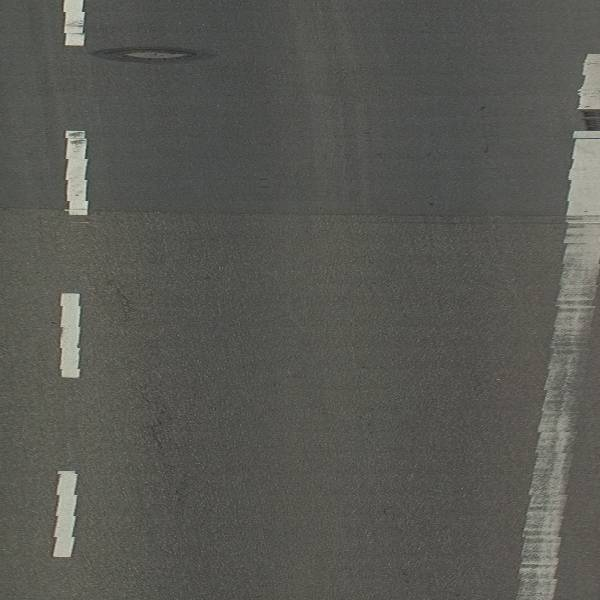road_damage: (107, 197, 564, 237)
